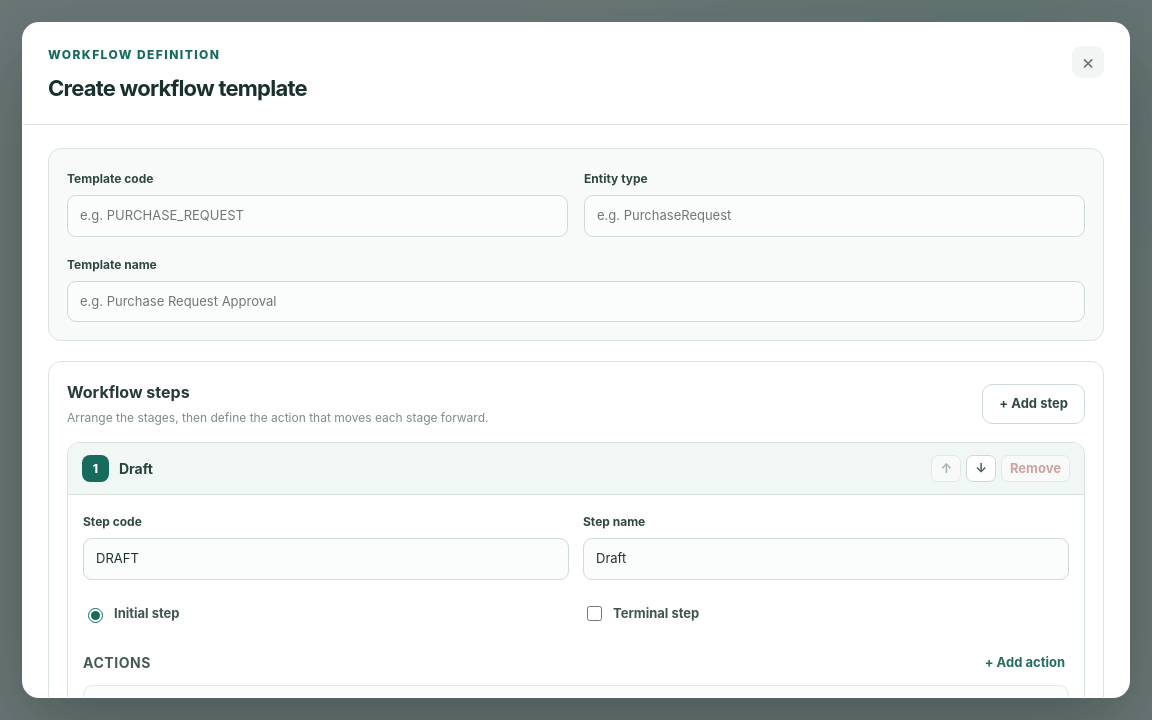
WorkflowTemplateForm › requires a non-terminal step to contain an action
The image size is (1152, 720).
Type "TEST_FLOW" into the field with id "workflow-template-code" at (318, 216), box [67,195,568,236]
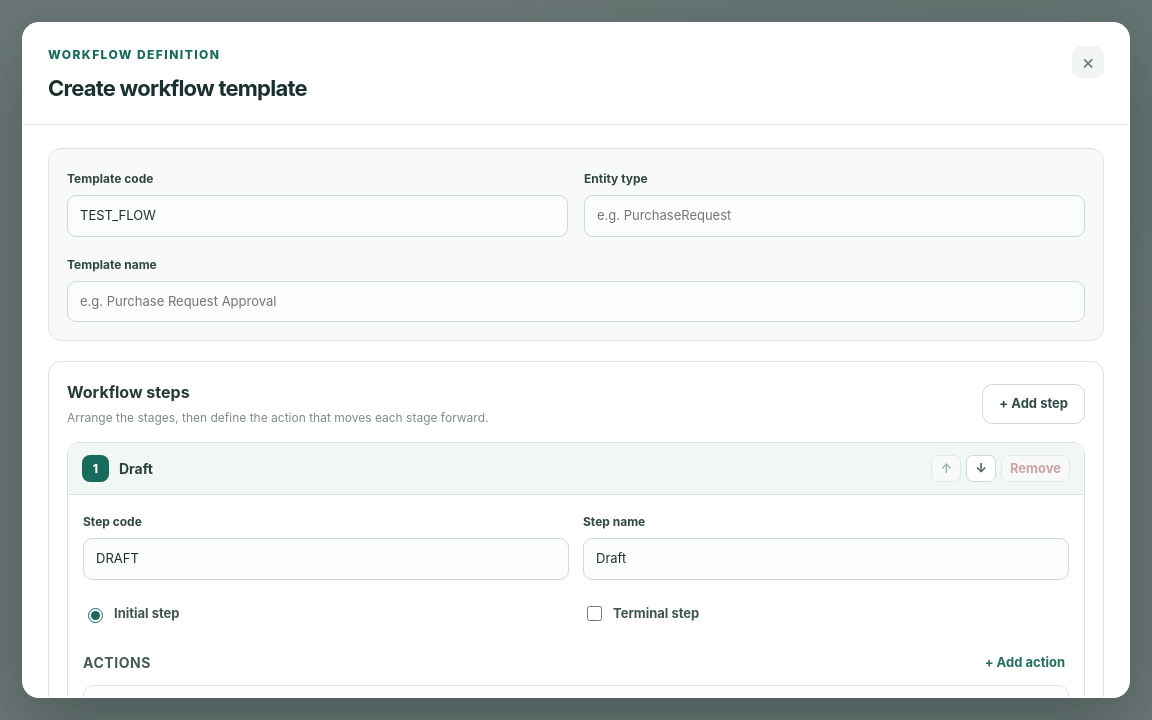
Type "Test Flow" into the field with id "workflow-template-name" at (576, 301), box [67,280,1085,322]
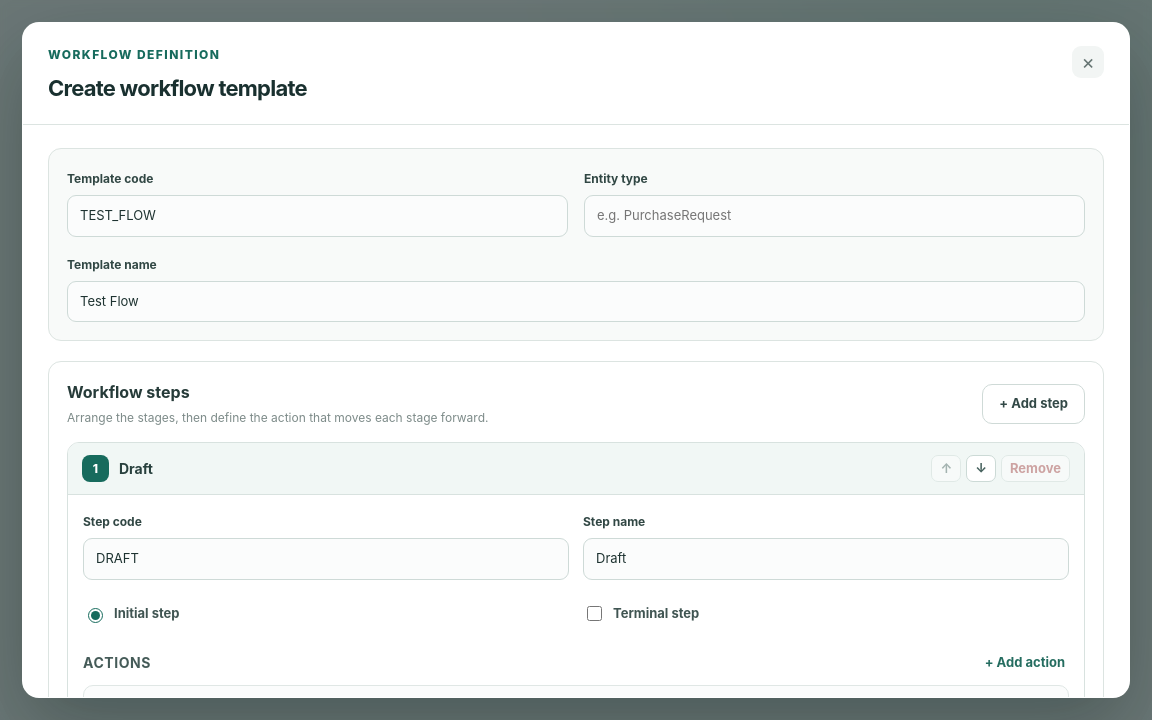
Type "TestRecord" into the field with id "workflow-template-entity" at (834, 216), box [584,195,1085,236]
(page scrolled)
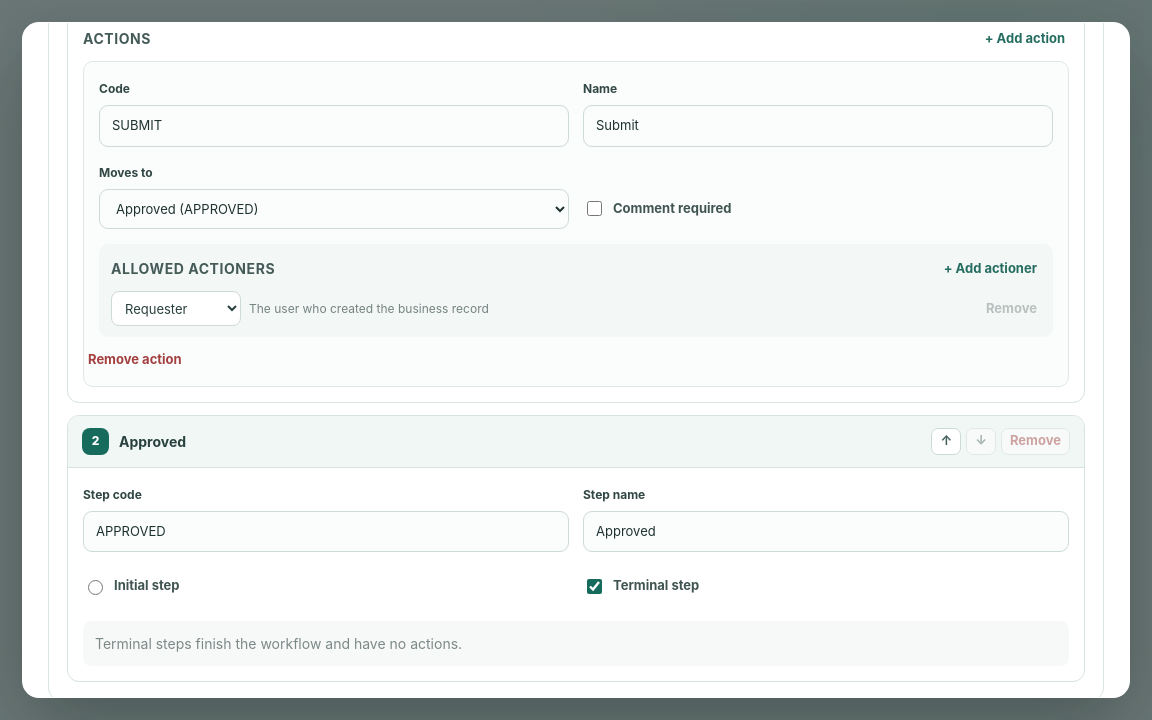
Click the button "Remove action" at (135, 360), box [84,346,186,374]
(page scrolled)
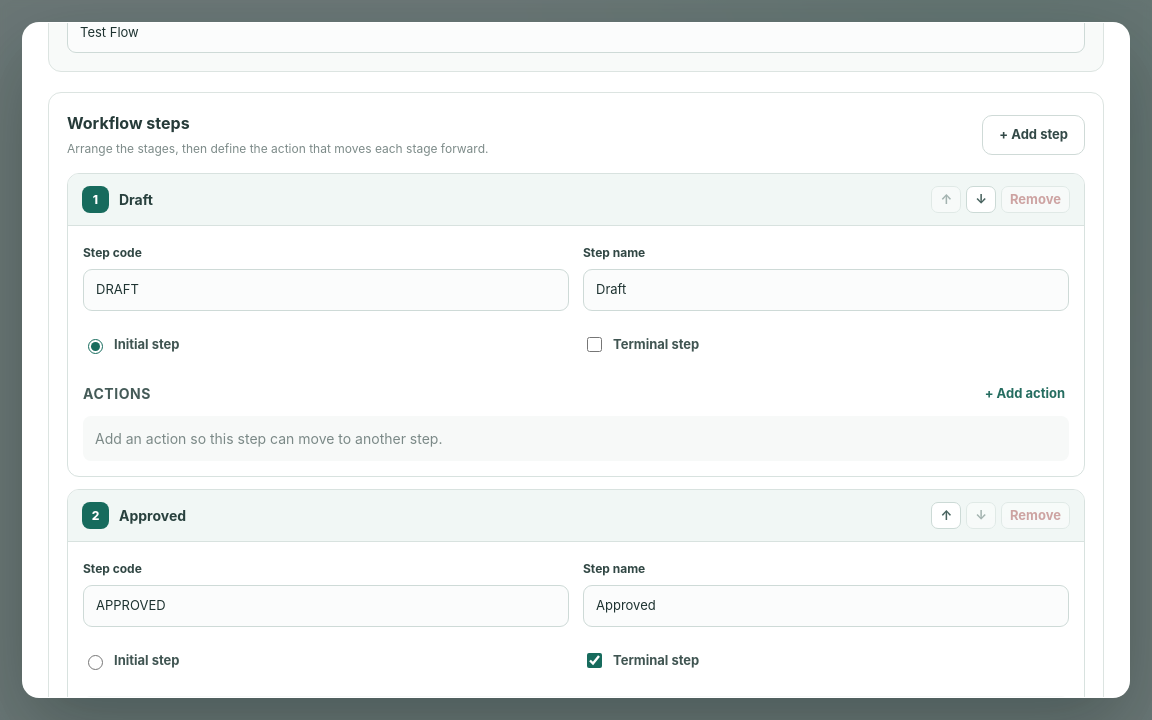
Submit the form
(page scrolled)
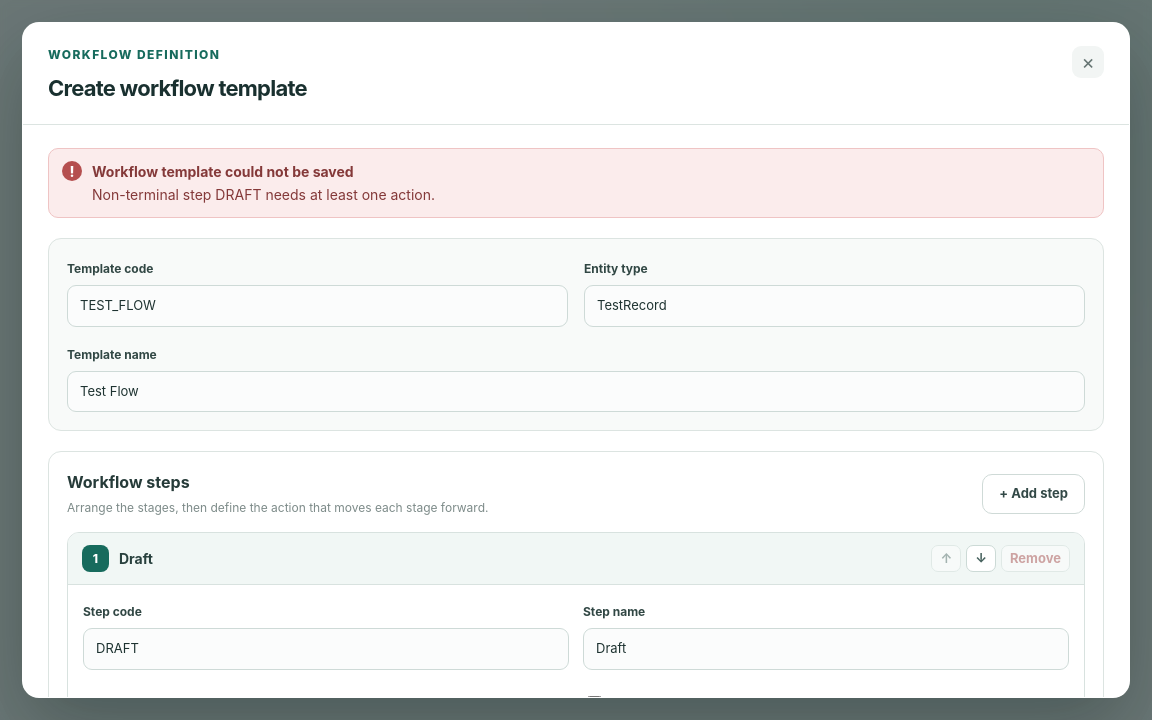
Expected: the message shows "Non-terminal step DRAFT needs at least one action.", [92,186,435,203]
